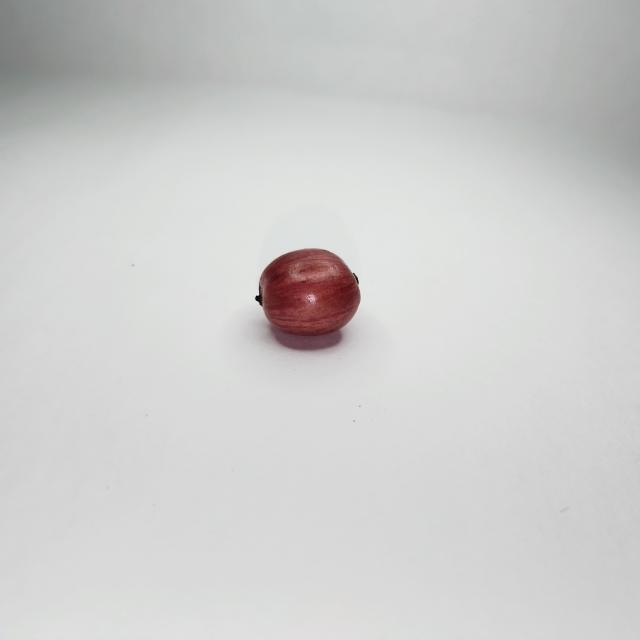Sano: (255, 249, 360, 342)
